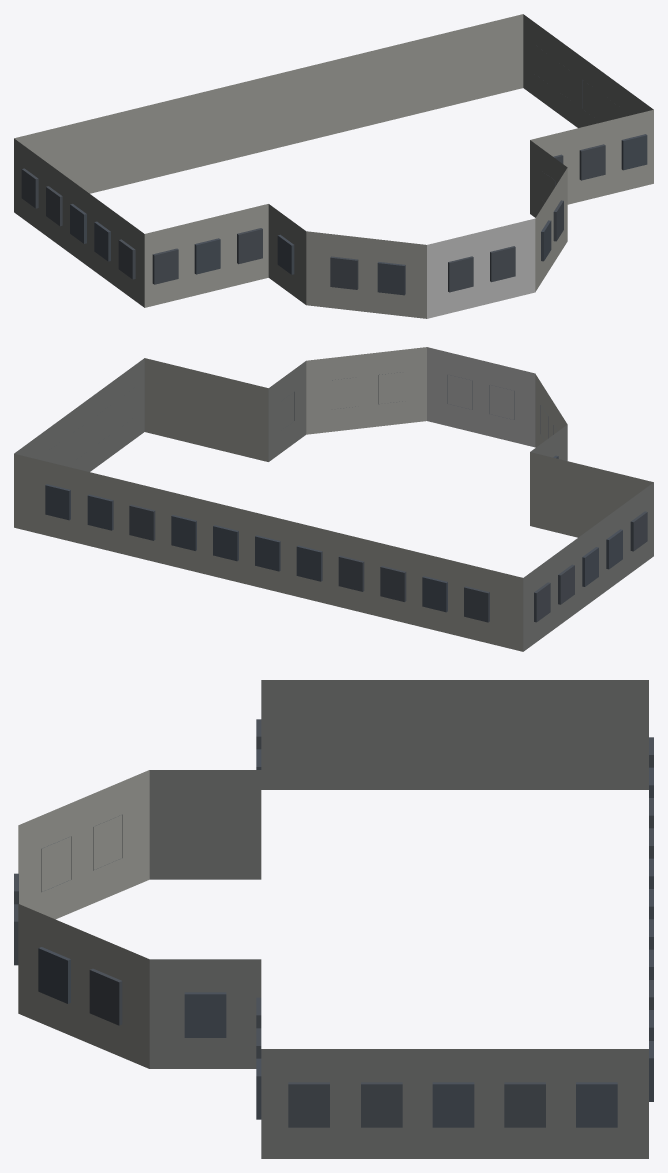
Rendered from TB_CITY_Skysc_O_BodyA_Gray.FBX.
3 renders of one model, top to bottom at view 1: azimuth 30°, elevation 25°; view 2: azimuth 150°, elevation 25°; view 3: azimuth 270°, elevation 25°, orthographic. The views are drawn at different scales.
Parts seen in each view (by area): view 1: TB_CITY_Skysc_O_BodyA_Gray; view 2: TB_CITY_Skysc_O_BodyA_Gray; view 3: TB_CITY_Skysc_O_BodyA_Gray.
Boxes of the visible parts, bbox=[...] form: TB_CITY_Skysc_O_BodyA_Gray: bbox=[14, 14, 653, 318]; TB_CITY_Skysc_O_BodyA_Gray: bbox=[14, 347, 653, 651]; TB_CITY_Skysc_O_BodyA_Gray: bbox=[14, 680, 653, 1158].
Bounding box in the file's own units: 36.39 × 5 × 26.39.
